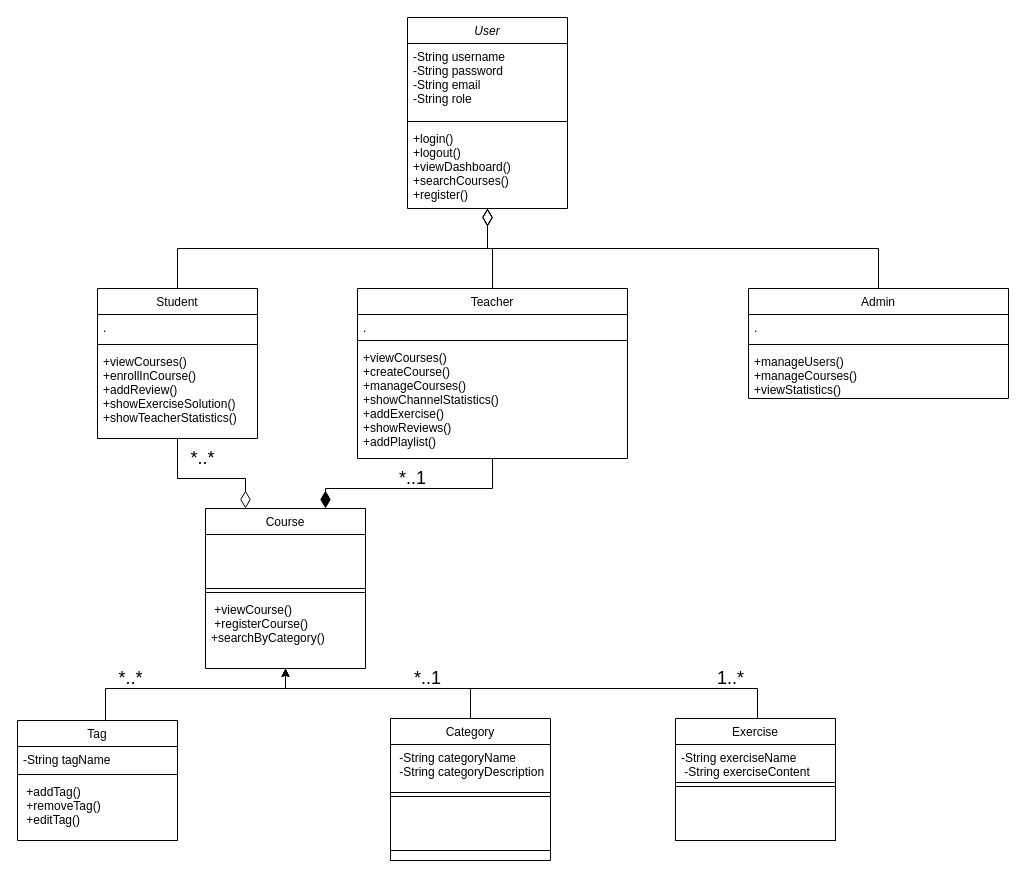
Some shapes in this 1026 by 878 pixel diagram are drawn without their labels. The centre of each missing label's shape, as x and y in pixels:
"+addCategory() +editCategory() +deleteCategory()" belongs at [470,823].
"+createExercise() +editExercise() +deleteExercise()" belongs at [755,813].
"-String courseName -String courseDescription -String category" belongs at [285,561].
